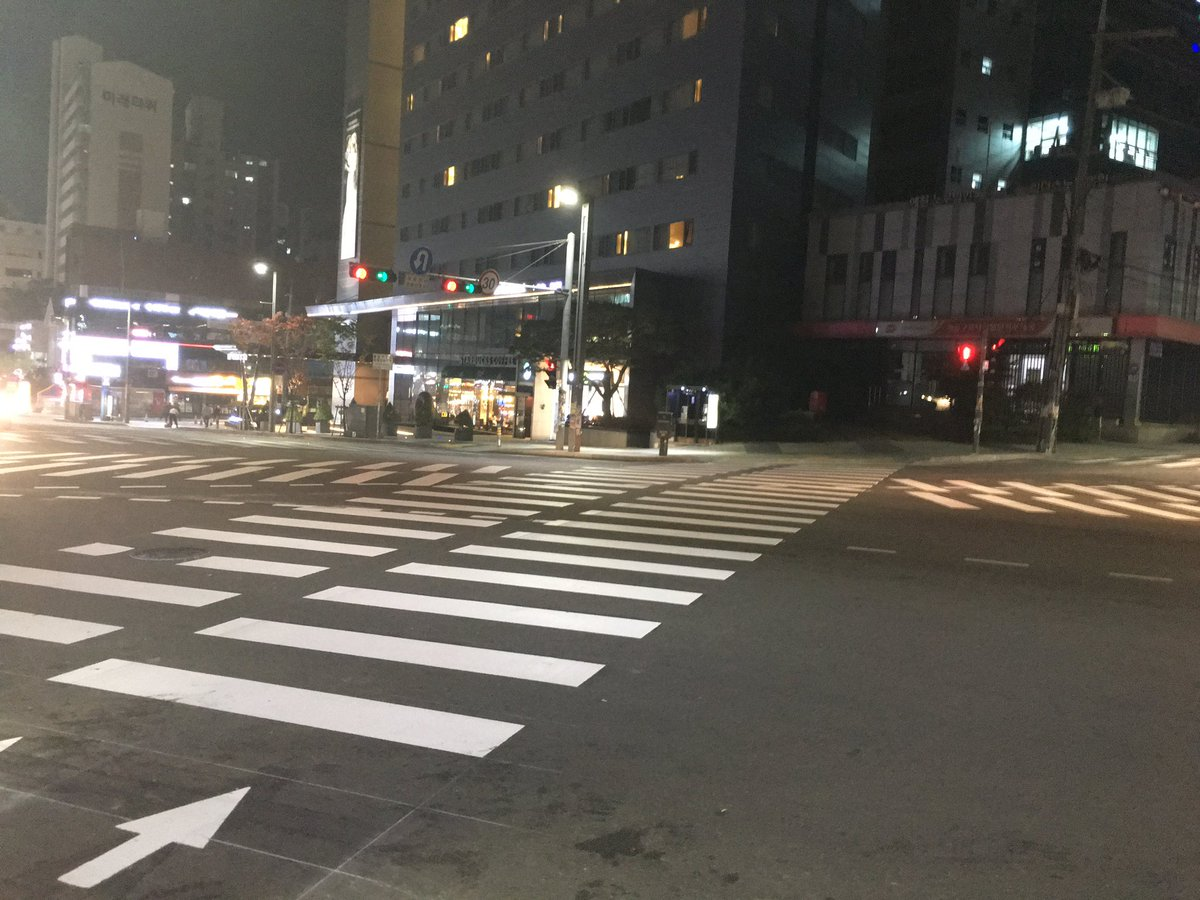traffic_light: (353, 31, 414, 118), (986, 337, 1000, 363), (548, 360, 557, 379)
traffic_light_number: (957, 343, 974, 374)
